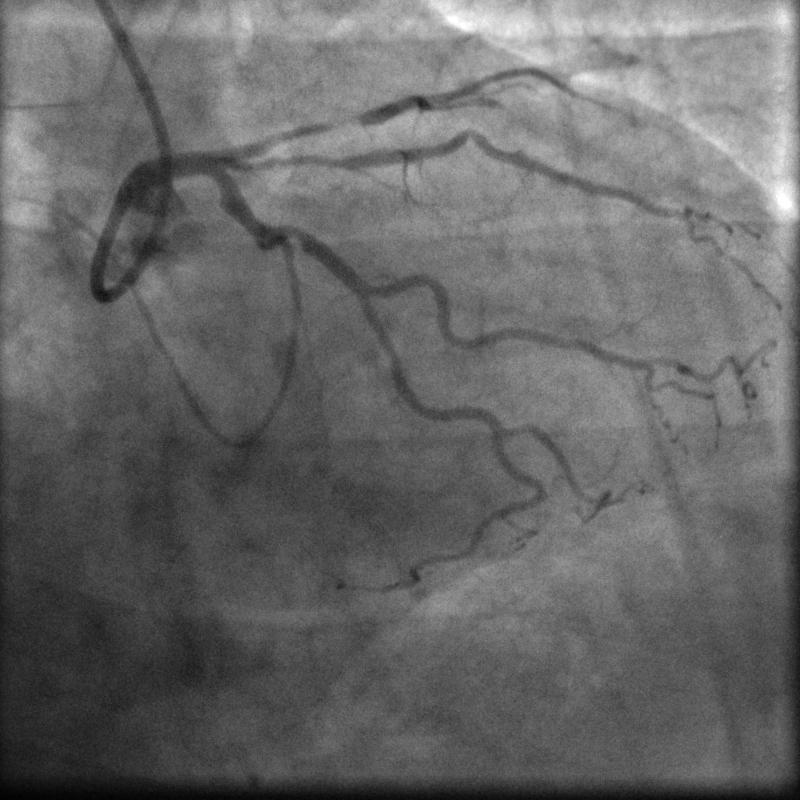Stenosis: (281, 222, 306, 249)
